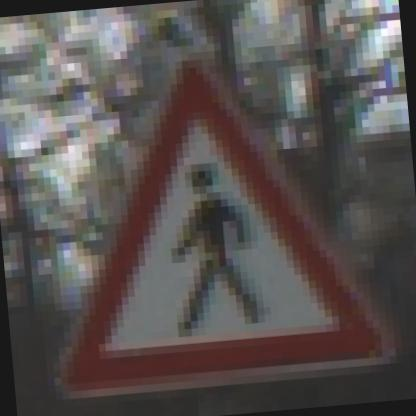crosswalk: (40, 32, 406, 415)
